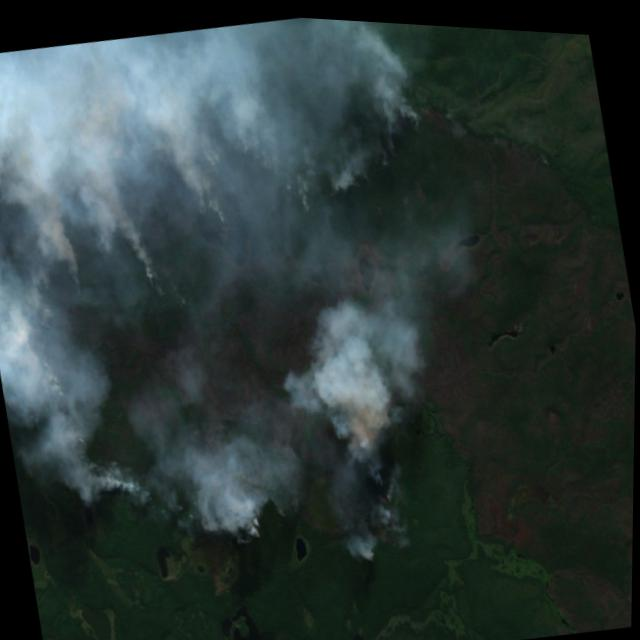fire: (0, 68, 496, 618)
